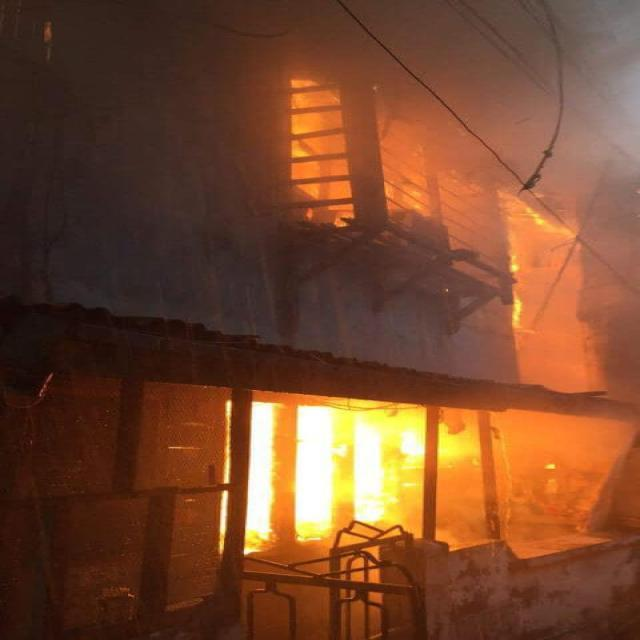Fire: (234, 394, 484, 548), (290, 90, 440, 233), (506, 202, 576, 338)
